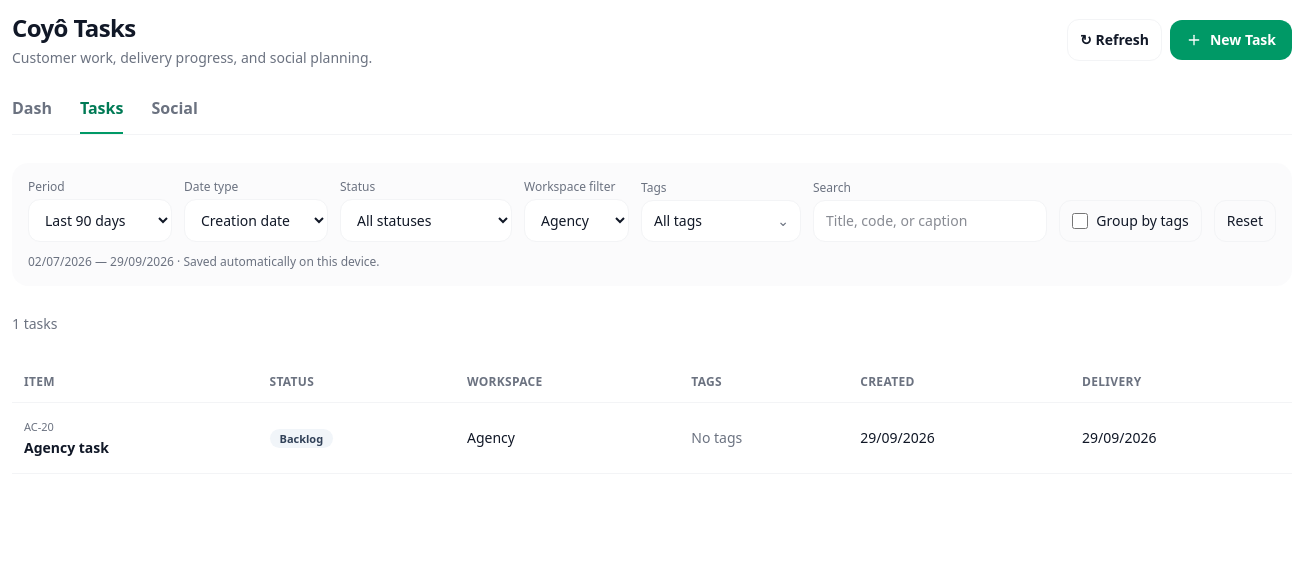
it: defaults to Agency, filters locally by workspace, and shows workspace in the task list
Expected: the column heading "Workspace" is shown, x1=455 y1=362 x2=679 y2=402
Expected: the button "AC-20 Agency task" is shown, x1=12 y1=402 x2=1292 y2=474
Select "Software" in the dropdown named "Filter by workspace" at (576, 220), box x1=524 y1=199 x2=629 y2=242
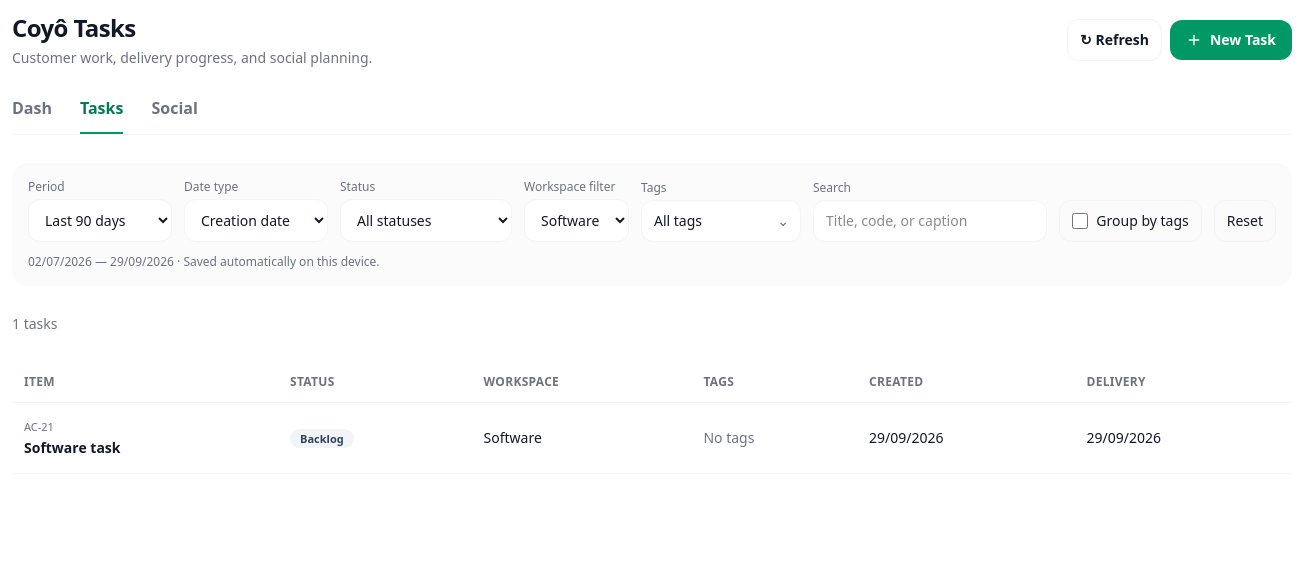
Expected: the button "AC-20 Agency task" is gone
Expected: the button "AC-21 Software task" is shown, x1=12 y1=402 x2=1292 y2=474
Select "Both" in the dropdown named "Filter by workspace" at (576, 220), box x1=524 y1=199 x2=629 y2=242
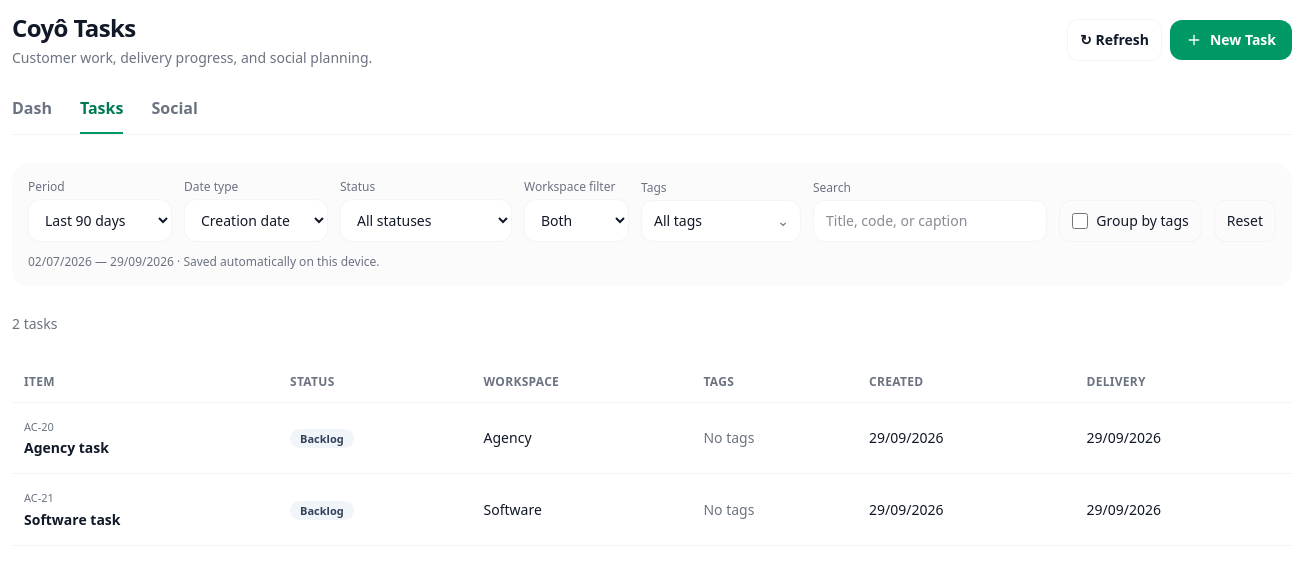
Expected: the button "AC-21 Software task" is shown, x1=12 y1=474 x2=1292 y2=545
Expected: the button "AC-20 Agency task" is shown, x1=12 y1=402 x2=1292 y2=474
